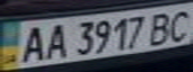1: (109, 16, 133, 51)
3: (72, 18, 96, 56)
7: (124, 12, 151, 48)
9: (90, 17, 115, 54)
A: (15, 22, 51, 63), (39, 20, 69, 61)
B: (145, 9, 178, 45)
C: (163, 7, 193, 43)
